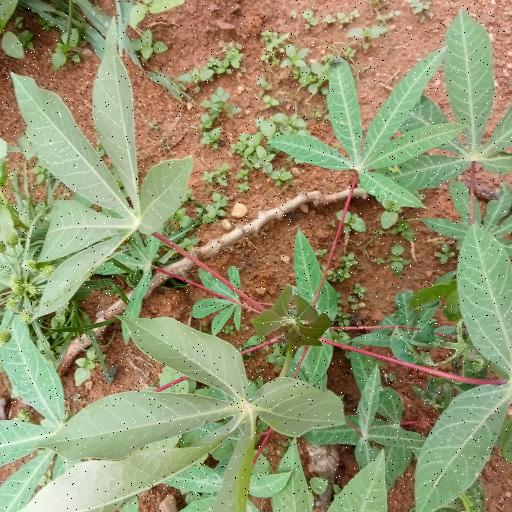Cassava_Mosaic: (13, 17, 188, 304)
